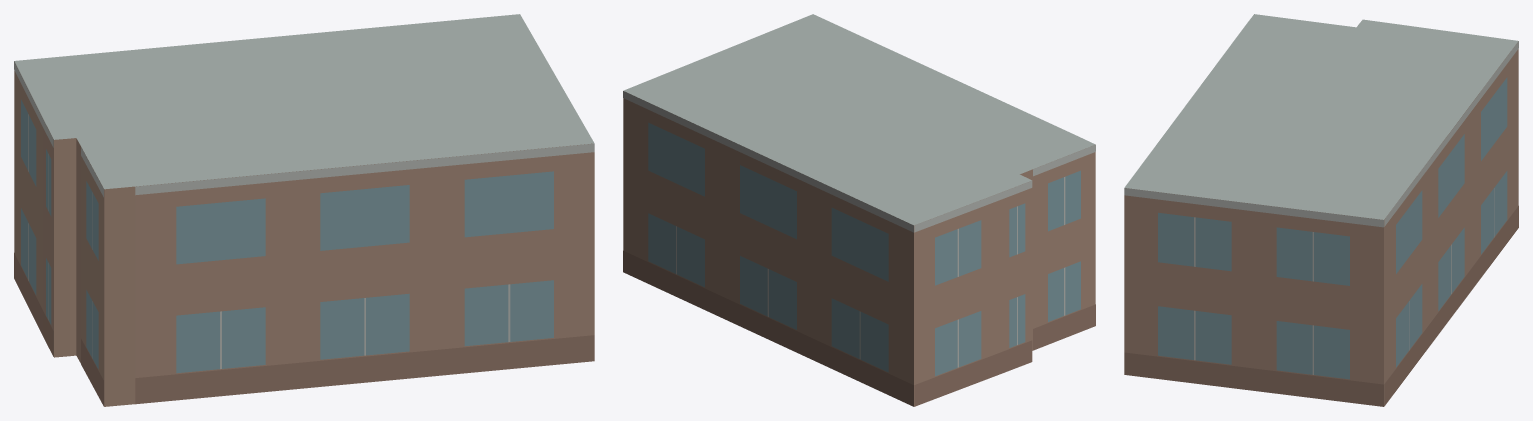
The model's file is survey-upis-32604794.glb.
3 renders of one model, left to right at view 1: azimuth 30°, elevation 25°; view 2: azimuth 150°, elevation 25°; view 3: azimuth 270°, elevation 25°, orthographic. The views are drawn at different scales.
Visible parts, largest first — view 1: survey-upis-32604794.tmp; view 2: survey-upis-32604794.tmp; view 3: survey-upis-32604794.tmp.
Part boxes in pixels (box(x1,y1,x2,y2)): survey-upis-32604794.tmp: box(14, 14, 594, 406); survey-upis-32604794.tmp: box(623, 14, 1095, 406); survey-upis-32604794.tmp: box(1124, 14, 1518, 406).
Bounding box in the file's own units: 14.42 × 6.1 × 11.68.
